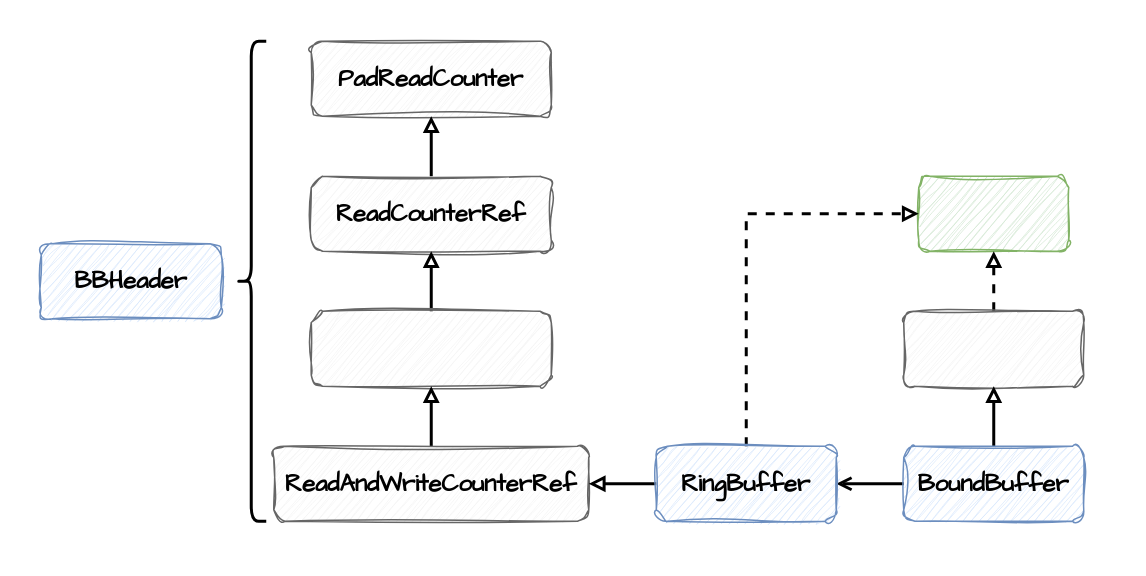
This 1146x576 diagram has some shape labels left out. Here are the shapes that lost their labels. From the top down, the centre of each, then its label:
(993,213): Buffer
(430,348): PadWriteCounter
(993,348): StripedBuffer
